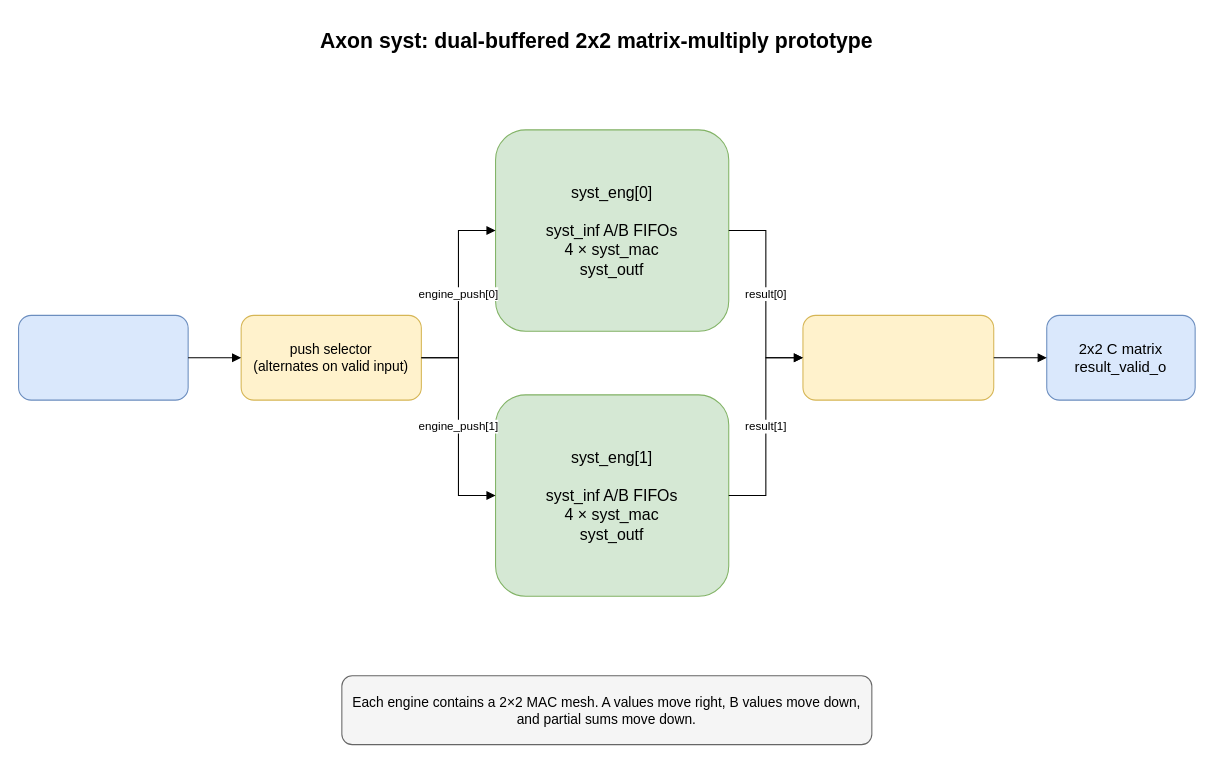
The diagram is 1214 pixels wide and 763 high, and some of its shapes have lost their labels. The shapes that lost their labels are listed below. From the top down, each one's centre as x and y in pixels, then its label:
At [102,357]: "2x2 A and B matrices input_valid_i".
At [898,357]: "result selector (alternates on valid output)".
